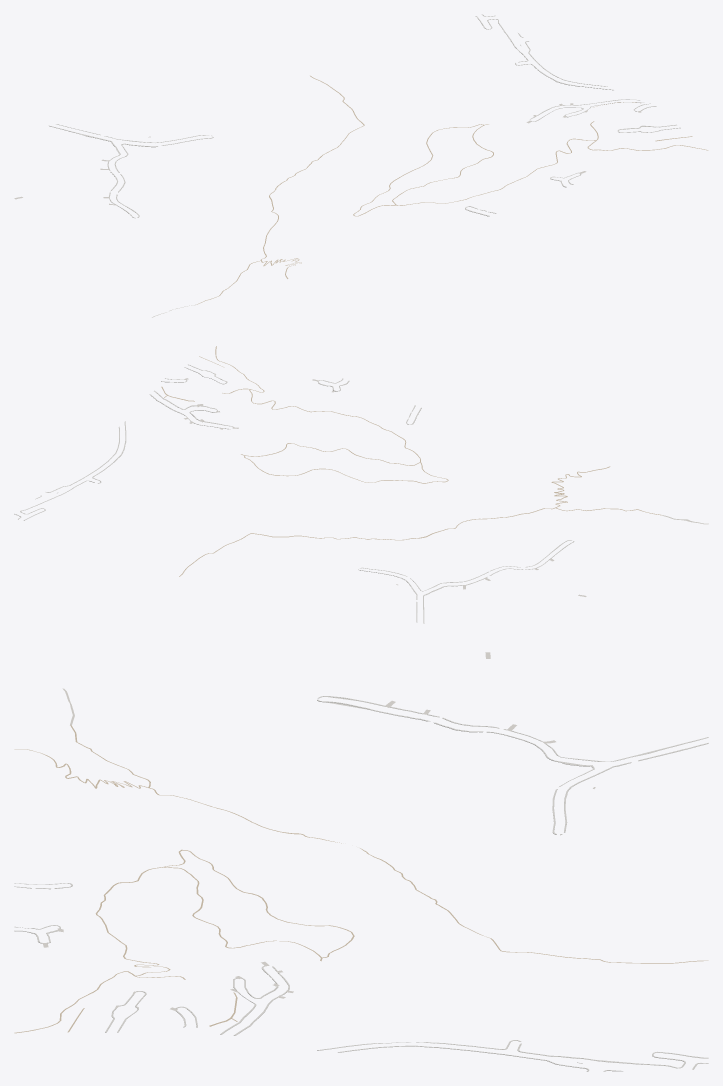
Rendered from ground_r2_c0.glb.
3 views of the same model, one above another, from view 1: azimuth 30°, elevation 25°; view 2: azimuth 150°, elevation 25°; view 3: azimuth 270°, elevation 25° (orthographic). The views are drawn at different scales.
Visible parts, largest first — view 1: sidewalks, paths; view 2: paths, sidewalks; view 3: sidewalks, paths.
Boxes of the visible parts, x1,y1,x2,y2 form: sidewalks: (48, 14, 680, 218); paths: (152, 75, 708, 317); paths: (161, 346, 708, 576); sidewalks: (14, 364, 574, 623); sidewalks: (14, 696, 708, 1071); paths: (14, 688, 708, 1033).
Bounding box in the file's own units: 1132 × 106 × 788.
